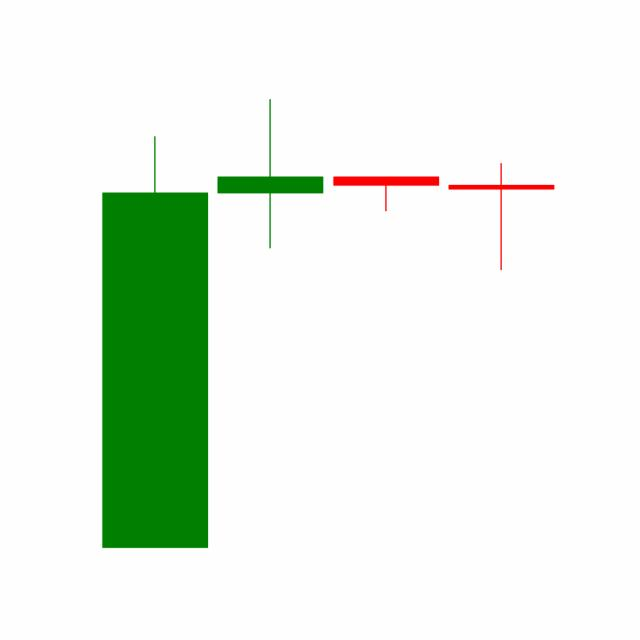Hammer: (443, 162, 559, 272)
